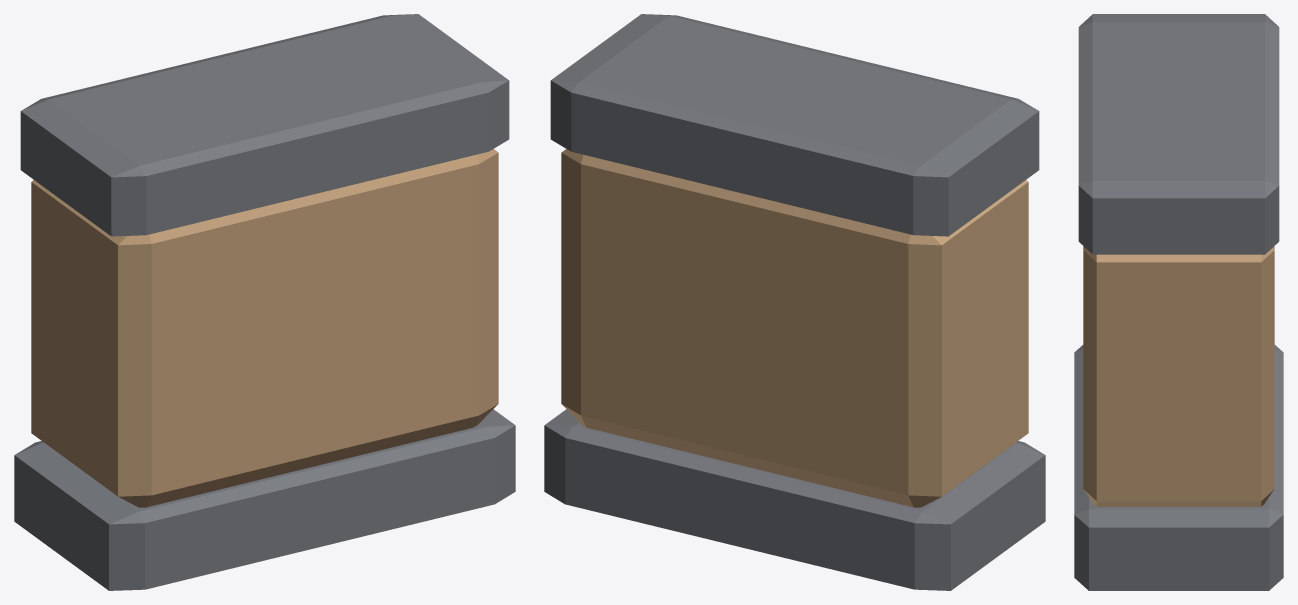
Rendered from b11_covered_firewood_rack.glb.
3 views of the same model, side by side, from view 1: azimuth 30°, elevation 25°; view 2: azimuth 150°, elevation 25°; view 3: azimuth 270°, elevation 25° (orthographic). The views are drawn at different scales.
Parts seen in each view (by area): view 1: b11_covered_firewood_rack; view 2: b11_covered_firewood_rack; view 3: b11_covered_firewood_rack.
Boxes of the visible parts, left/top/right/bottom form: b11_covered_firewood_rack: left=14, top=14, right=515, bottom=590; b11_covered_firewood_rack: left=544, top=14, right=1045, bottom=590; b11_covered_firewood_rack: left=1074, top=14, right=1283, bottom=590.
Size of the model in its own units: 1.47 by 1.46 by 0.69.
